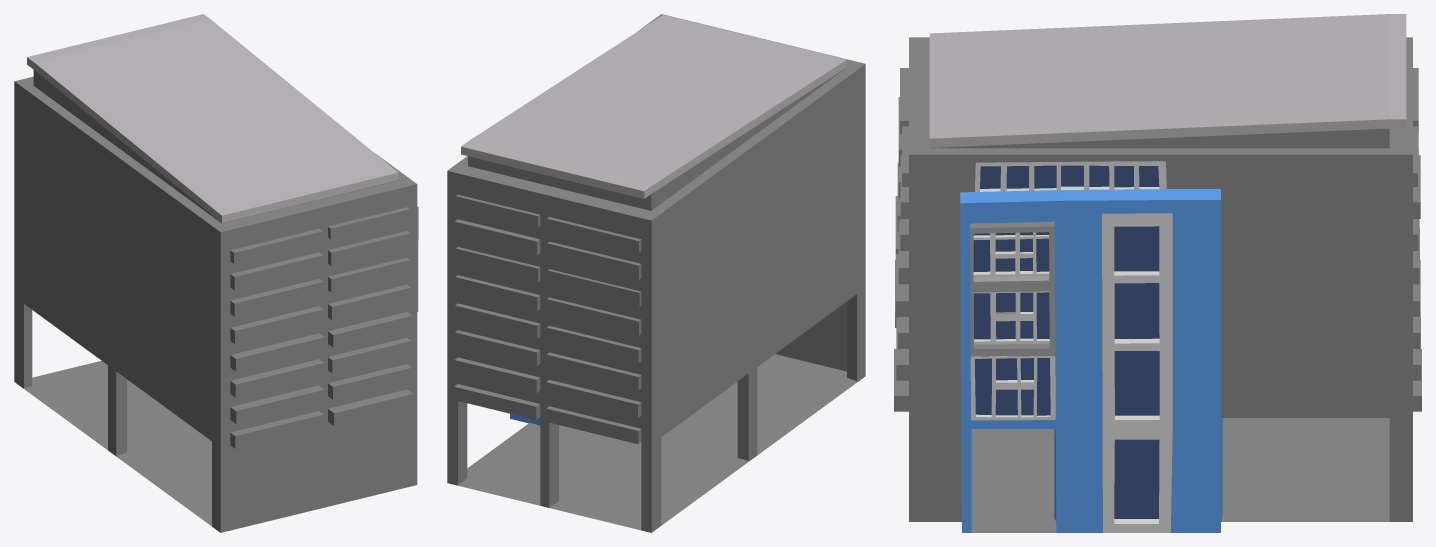
File: building23.glb
3 views of the same model, side by side, from view 1: azimuth 30°, elevation 25°; view 2: azimuth 150°, elevation 25°; view 3: azimuth 270°, elevation 25° (orthographic). The views are drawn at different scales.
Visible parts, largest first — view 1: Cube; view 2: Cube; view 3: Cube.
Boxes of the visible parts, left/top/right/bottom form: Cube: left=14, top=14, right=418, bottom=532; Cube: left=447, top=14, right=865, bottom=532; Cube: left=894, top=14, right=1421, bottom=532.
Size of the model in its own units: 5.83 by 8.1 by 9.78.
